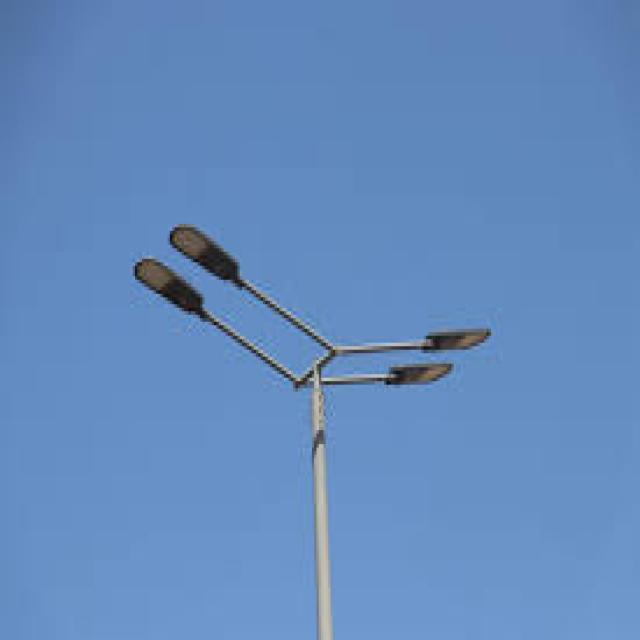Street Light: (130, 224, 491, 640)
